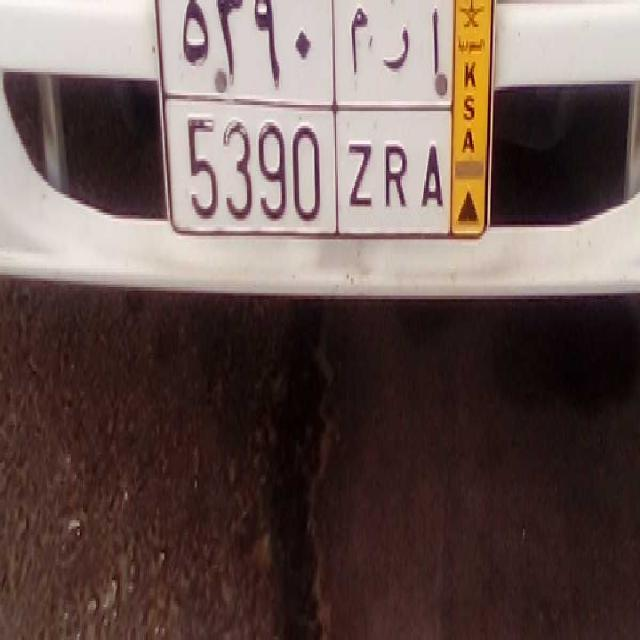license_plate: (165, 98, 452, 232)
